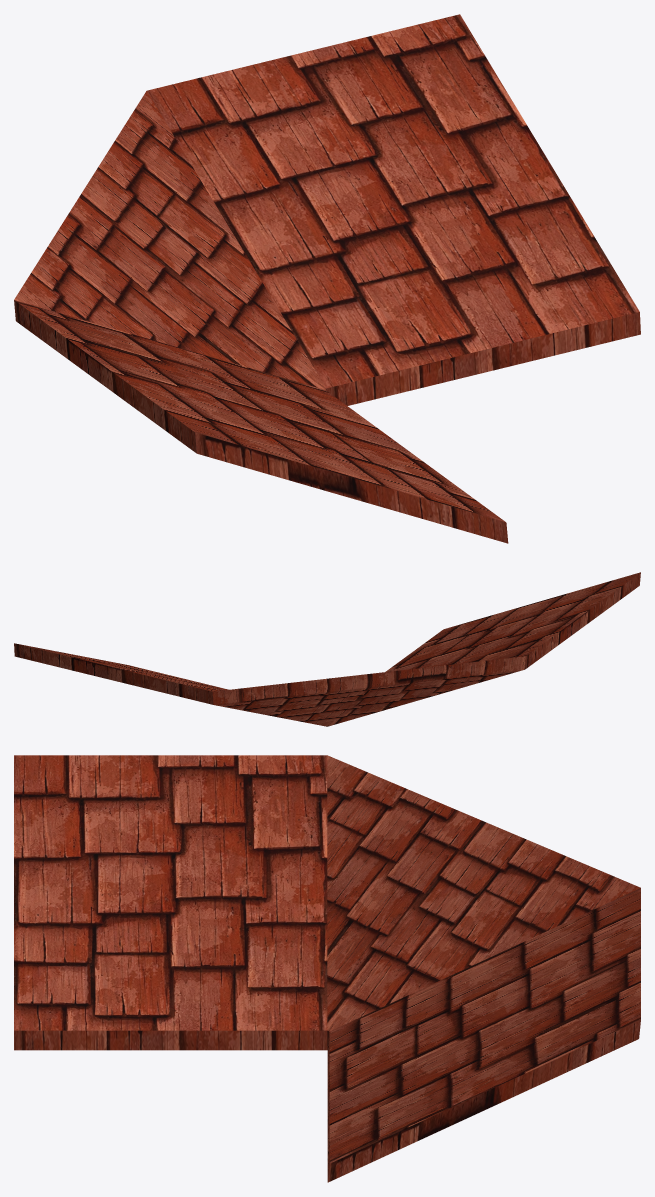
Rendered from roof corner inverse.glb.
The picture shows the model from 3 angles, top to bottom: view 1: azimuth 30°, elevation 25°; view 2: azimuth 150°, elevation 25°; view 3: azimuth 270°, elevation 25°; orthographic projection. The views are drawn at different scales.
Parts seen in each view (by area): view 1: Plane.002; view 2: Plane.002; view 3: Plane.002.
Boxes of the visible parts, box(x1,y1,x2,y2) form: Plane.002: box(14, 14, 640, 543); Plane.002: box(14, 572, 640, 726); Plane.002: box(14, 755, 640, 1182).
Bounding box in the file's own units: 2 × 0.5726 × 2.
1 material, 1 textured.
